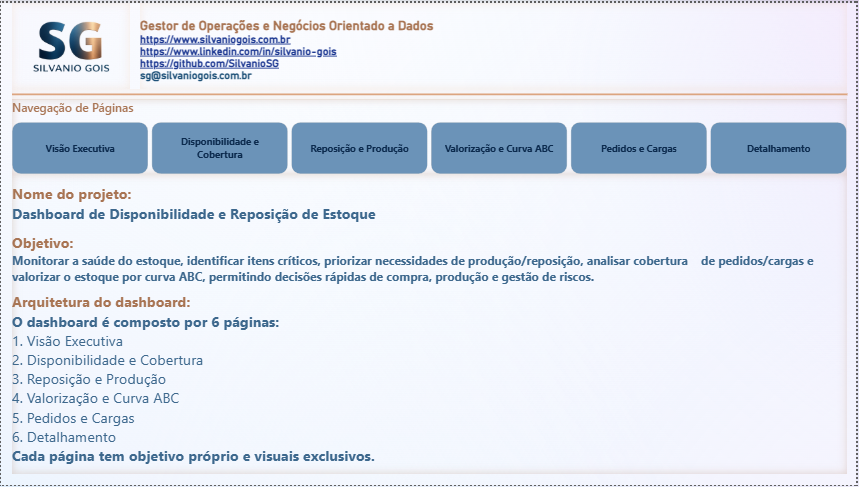

Layout of this report page (visuals, bound fields, positions):
{"tool":"powerbi","page":{"name":"Inicio","canvas":[1920,1080],"ordinal":0},"visuals":[{"type":"image","box":[24,0,264,192],"z":0},{"type":"textbox","box":[312,0,1584,192],"z":1000},{"type":"shape","box":[24,192,1872,24],"z":1001},{"type":"pageNavigator","title":"Navegação de Páginas","box":[24,216,1872,168],"z":1002},{"type":"textbox","box":[24,384,1872,672],"z":1003}]}

Visuals, with their boxes in screenshot pixels (x1, y1, x2, y2), scaled from the page's 1920x1080 canvas onto the 859x487 screenshot:
image: bbox=(11, 0, 129, 87)
textbox: bbox=(140, 0, 848, 87)
shape: bbox=(11, 87, 848, 97)
"Navegação de Páginas" pageNavigator: bbox=(11, 97, 848, 173)
textbox: bbox=(11, 173, 848, 476)
